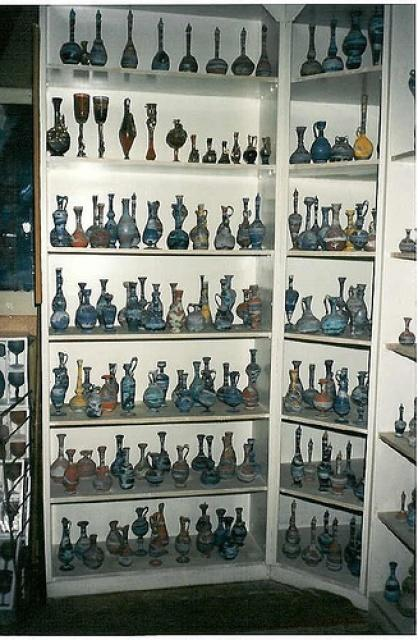Rak: (36, 0, 388, 600)
